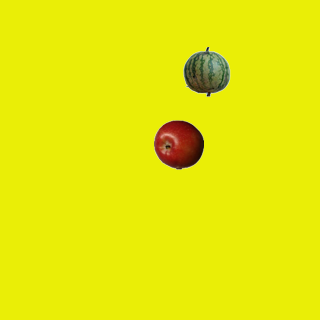Apple Braeburn: (153, 119, 203, 169)
Watermelon: (181, 46, 231, 96)
